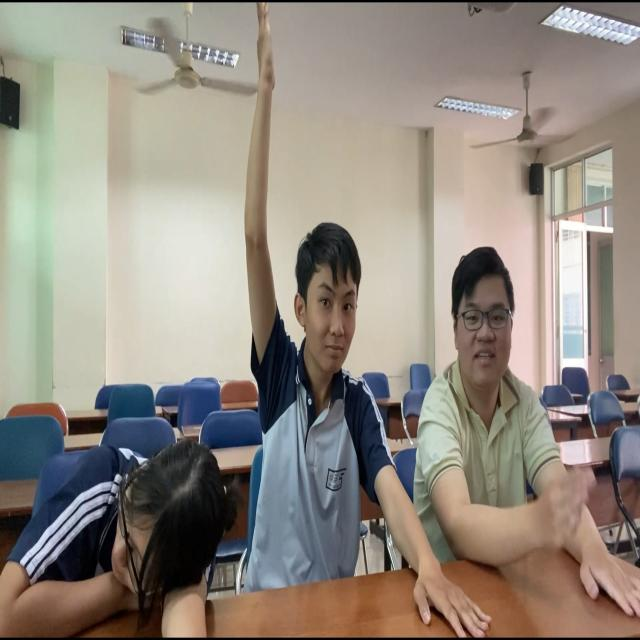sleep: (1, 307, 247, 640)
